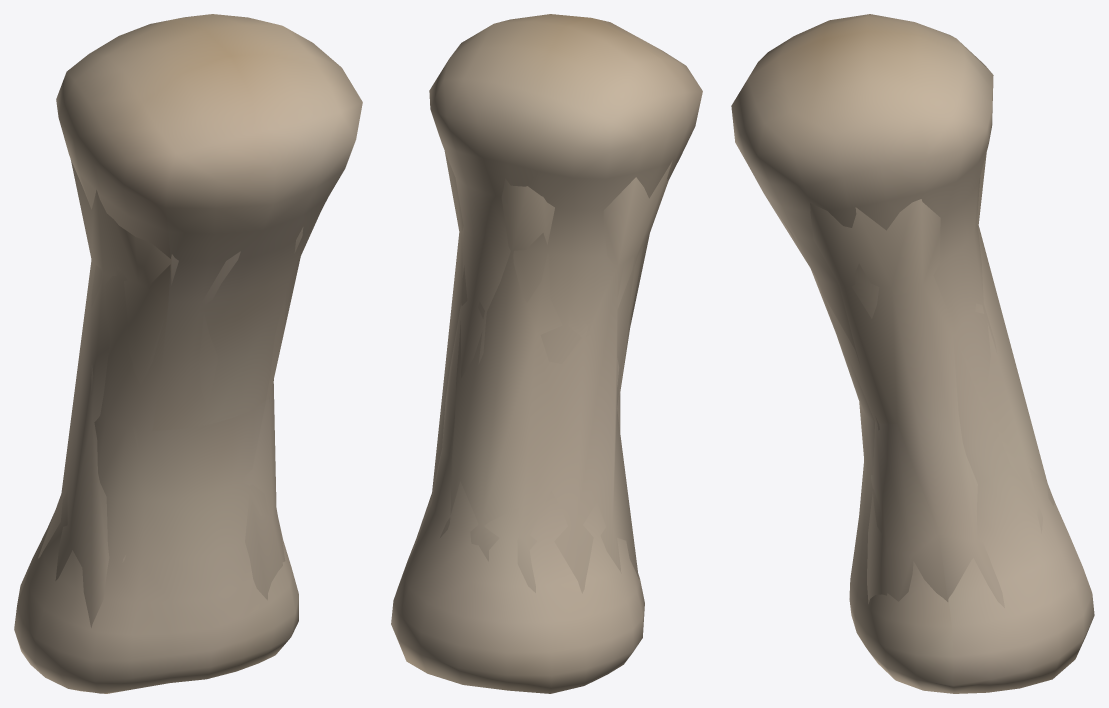
File: vertebrae caudales 11.fbx
The picture shows the model from 3 angles, left to right: view 1: azimuth 30°, elevation 25°; view 2: azimuth 150°, elevation 25°; view 3: azimuth 270°, elevation 25°; orthographic projection. The views are drawn at different scales.
Parts seen in each view (by area): view 1: vertebrae caudales 11, vertebrae caudales 11 low; view 2: vertebrae caudales 11, vertebrae caudales 11 low; view 3: vertebrae caudales 11, vertebrae caudales 11 low.
Boxes of the visible parts, <box> form: vertebrae caudales 11: <box>14,14,362,693</box>; vertebrae caudales 11 low: <box>38,160,319,627</box>; vertebrae caudales 11: <box>391,14,702,693</box>; vertebrae caudales 11 low: <box>409,151,672,593</box>; vertebrae caudales 11: <box>731,14,1094,693</box>; vertebrae caudales 11 low: <box>781,153,1054,607</box>.
Size of the model in its own units: 1.21 by 3.01 by 1.6.
1 material, 1 textured.
